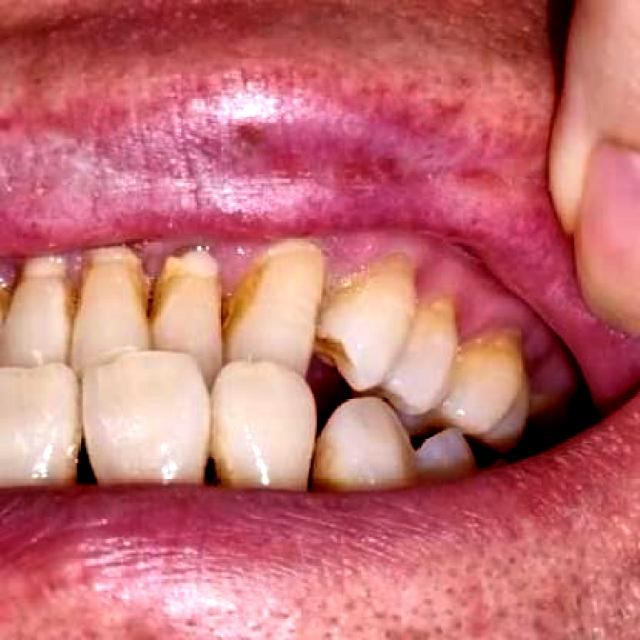Plaque: (455, 282, 566, 395), (318, 237, 463, 302), (128, 243, 197, 287), (214, 247, 263, 300), (63, 253, 87, 295), (5, 260, 19, 295)
